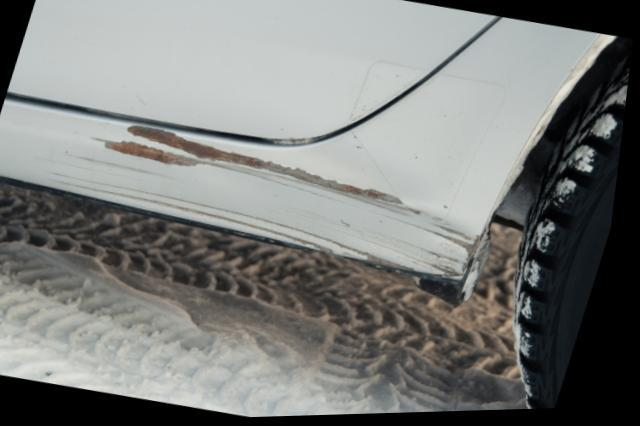scratch: (38, 127, 488, 286)
